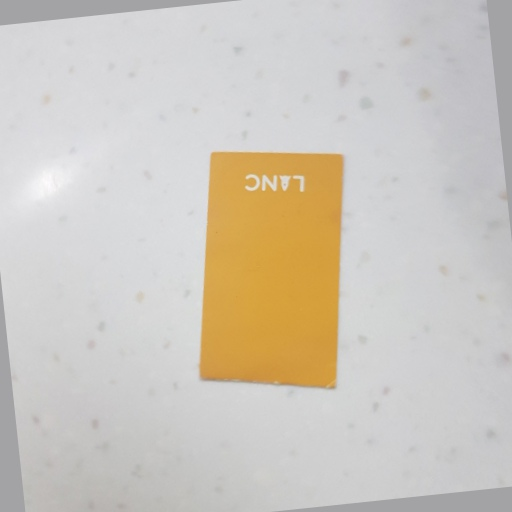Paper_2: (199, 144, 352, 391)
